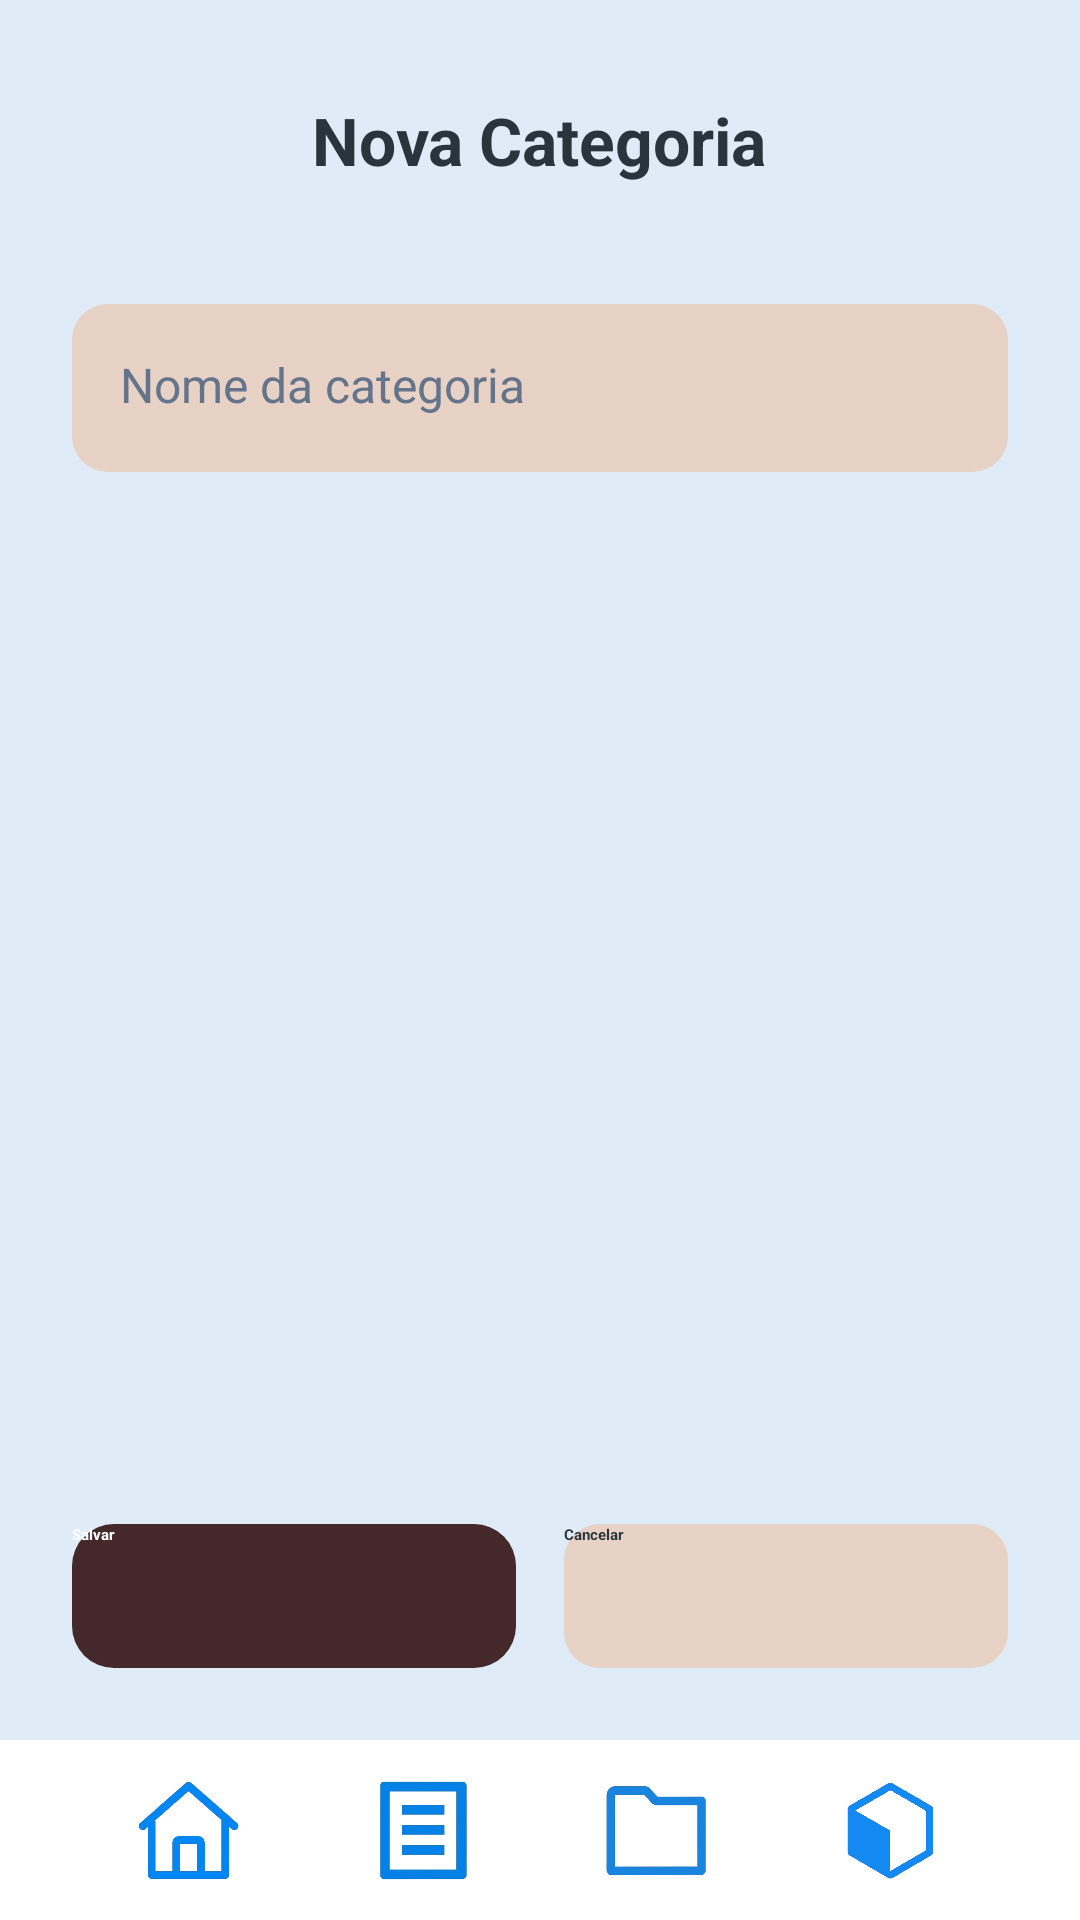

Where icons sit on this 1080 x 1920 app screen, as {"left": x1, "top": y1, "right": x2, "bottom": y2}:
caixa: {"left": 847, "top": 1783, "right": 933, "bottom": 1879}
home: {"left": 139, "top": 1782, "right": 239, "bottom": 1879}
lista: {"left": 380, "top": 1781, "right": 467, "bottom": 1879}
pasta: {"left": 606, "top": 1786, "right": 706, "bottom": 1875}
